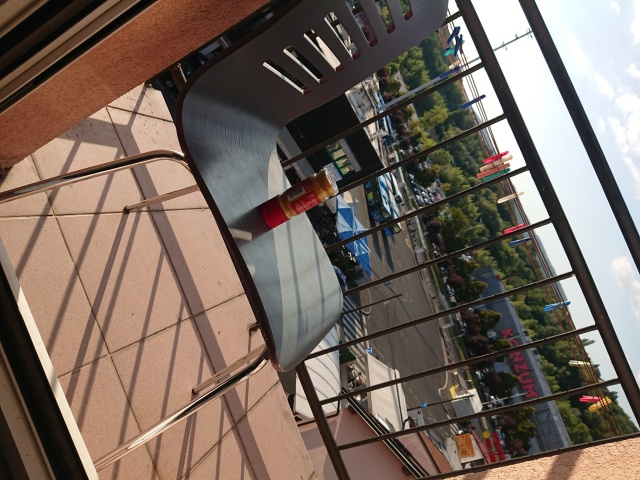Kotanyi Curry Spices Mix 70g: (256, 166, 340, 232)
